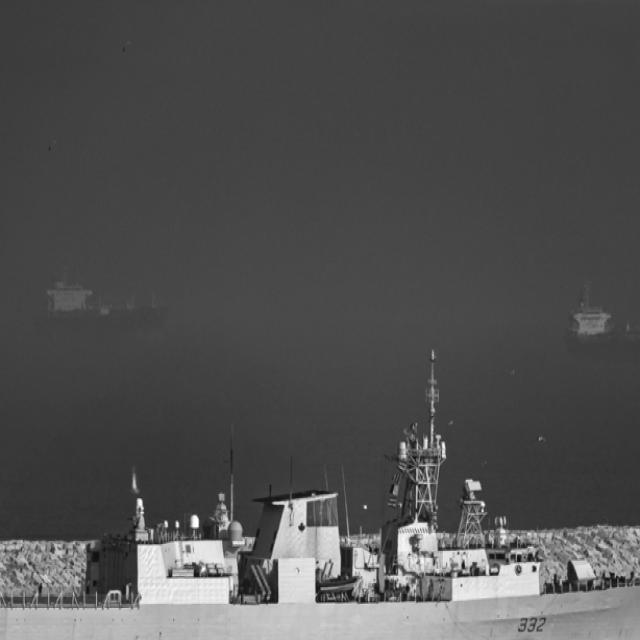Fragata: (1, 335, 640, 640)
